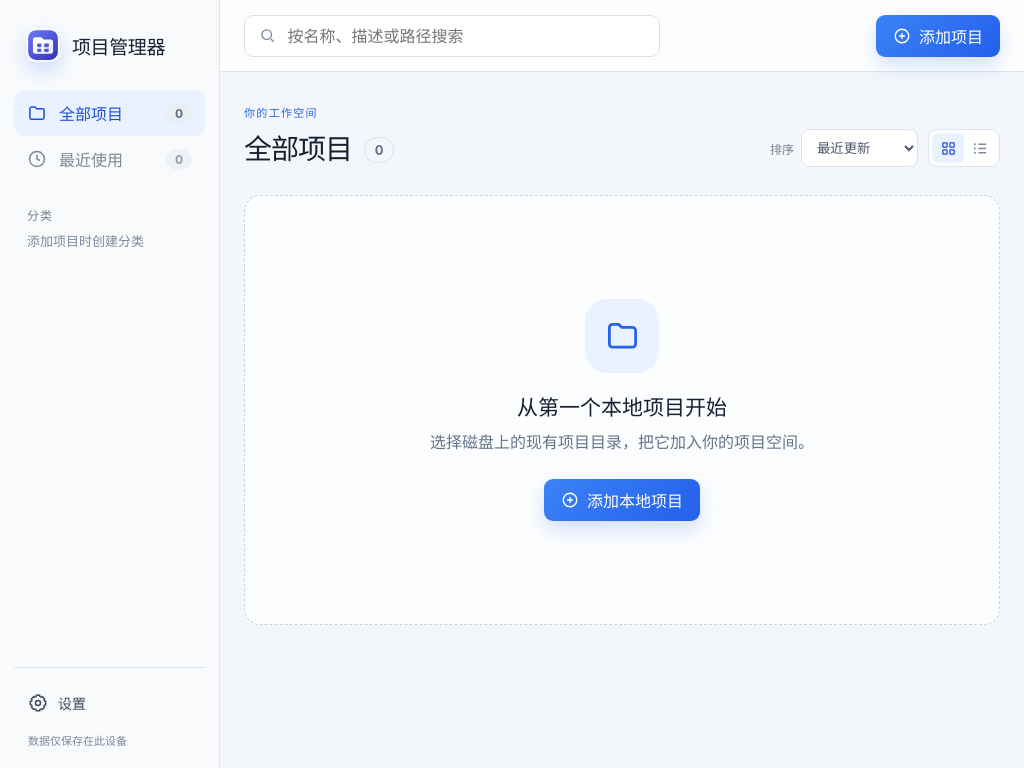
App import flow › loads the empty state and imports an existing directory with a new category
expect the heading "从第一个本地项目开始" is shown: met, box [517, 391, 727, 421]
Click the button "添加本地项目".
click(622, 500)  # box [544, 479, 700, 521]
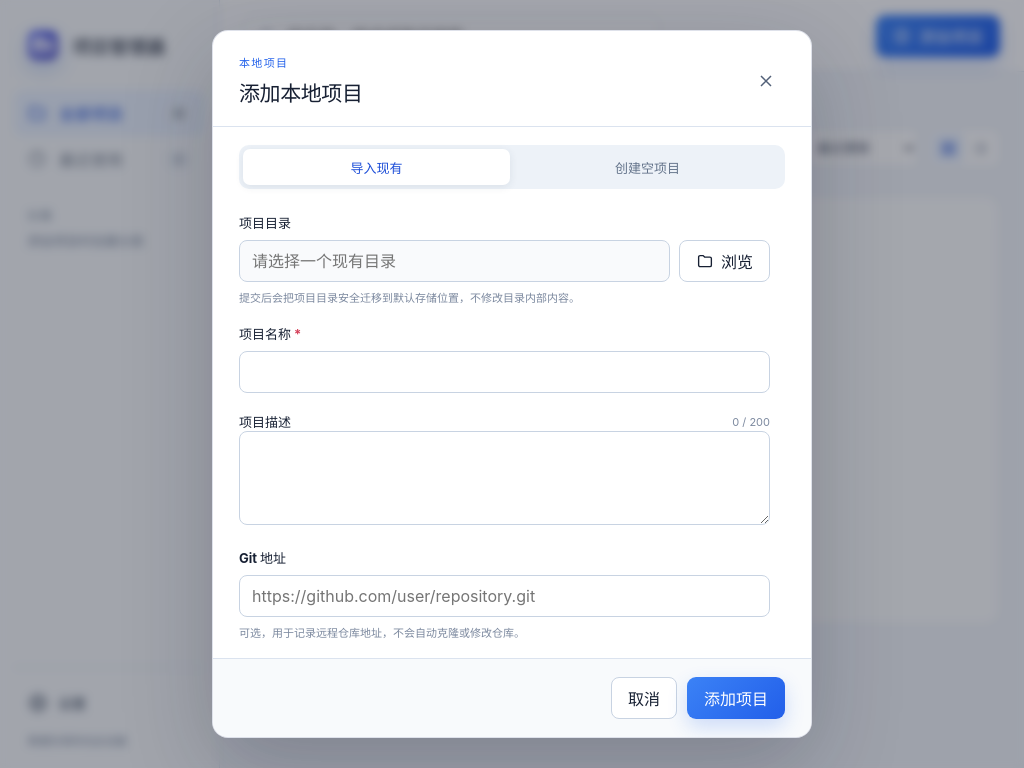
Click the button "浏览".
click(724, 261)  # box [679, 240, 770, 282]
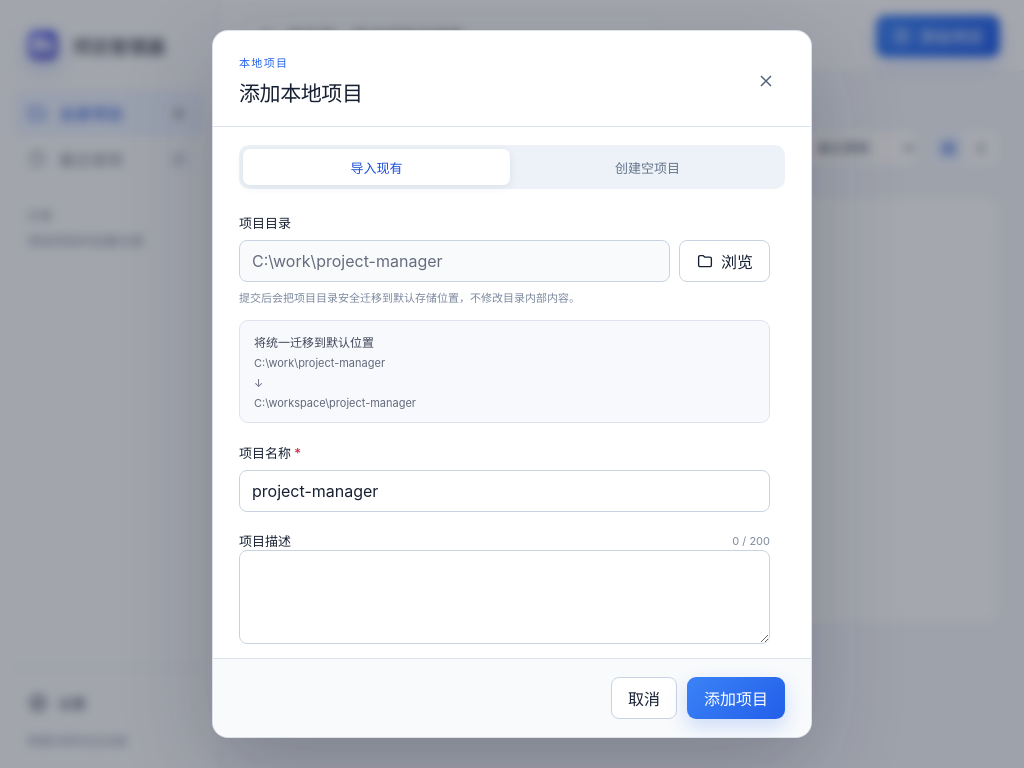
expect the field labelled "项目名称 *" holds "project-manager": met, box [239, 470, 770, 512]
Type "本地项目管理器" into the text box labelled "项目描述".
click(504, 597); type("本地项目管理器")  # box [239, 550, 770, 644]
(page scrolled)
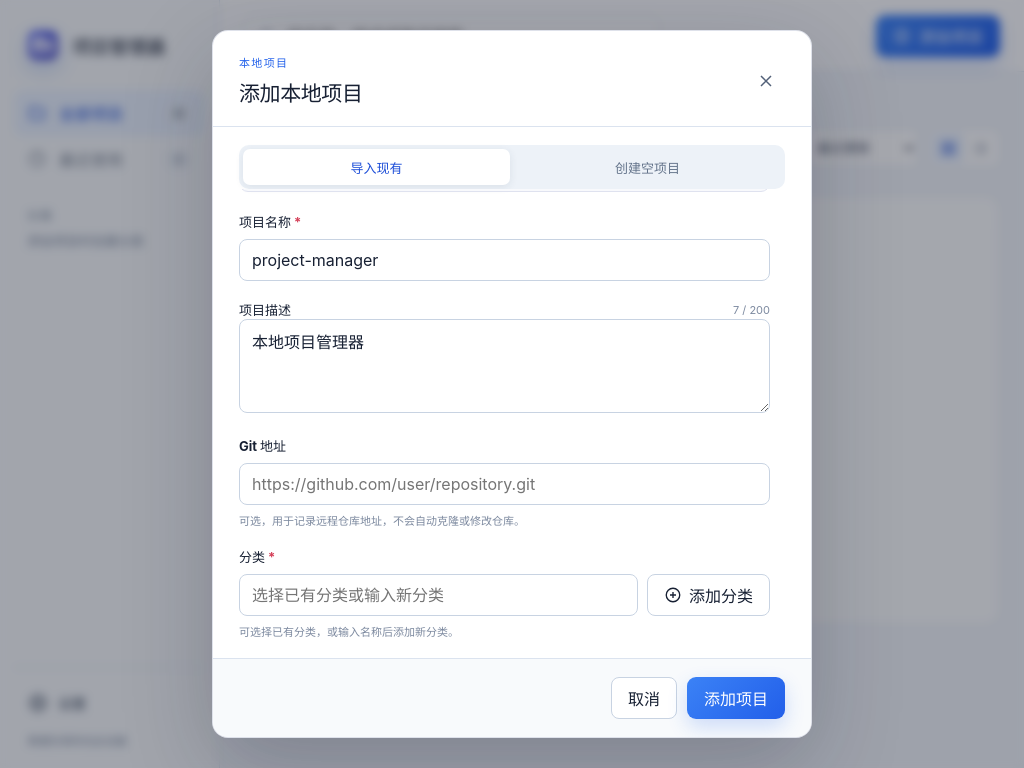
Type "工具" into the field labelled "分类 *".
click(438, 595); type("工具")  # box [239, 574, 638, 616]
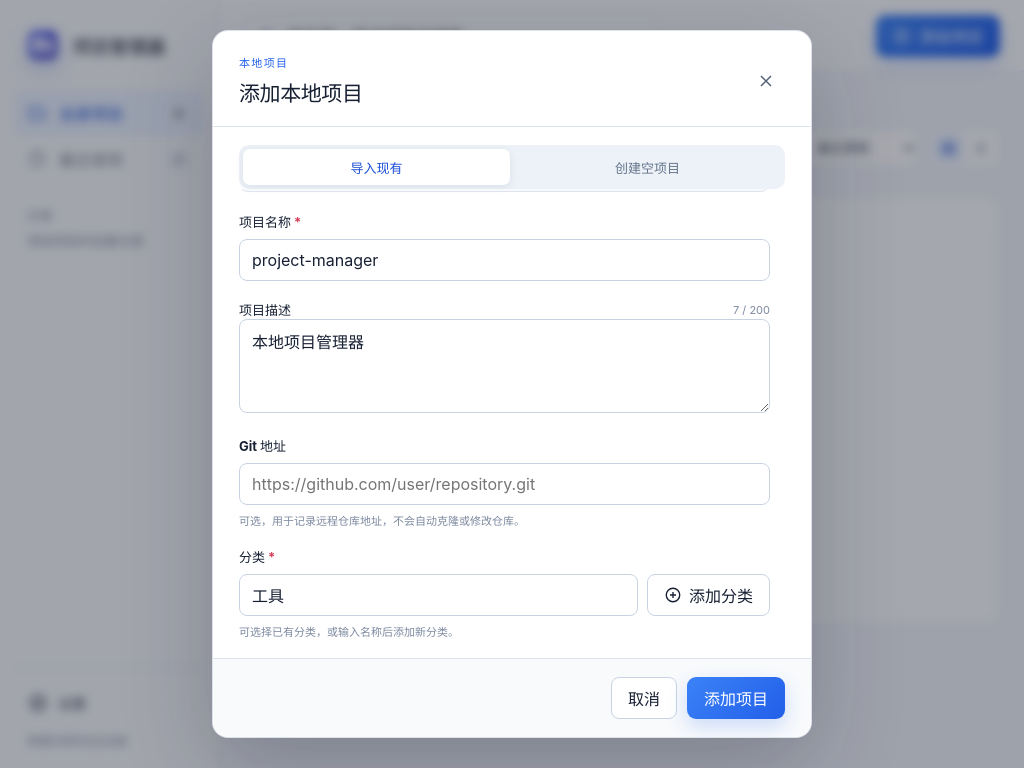
Click the button "添加项目".
click(736, 698)  # box [687, 677, 785, 719]
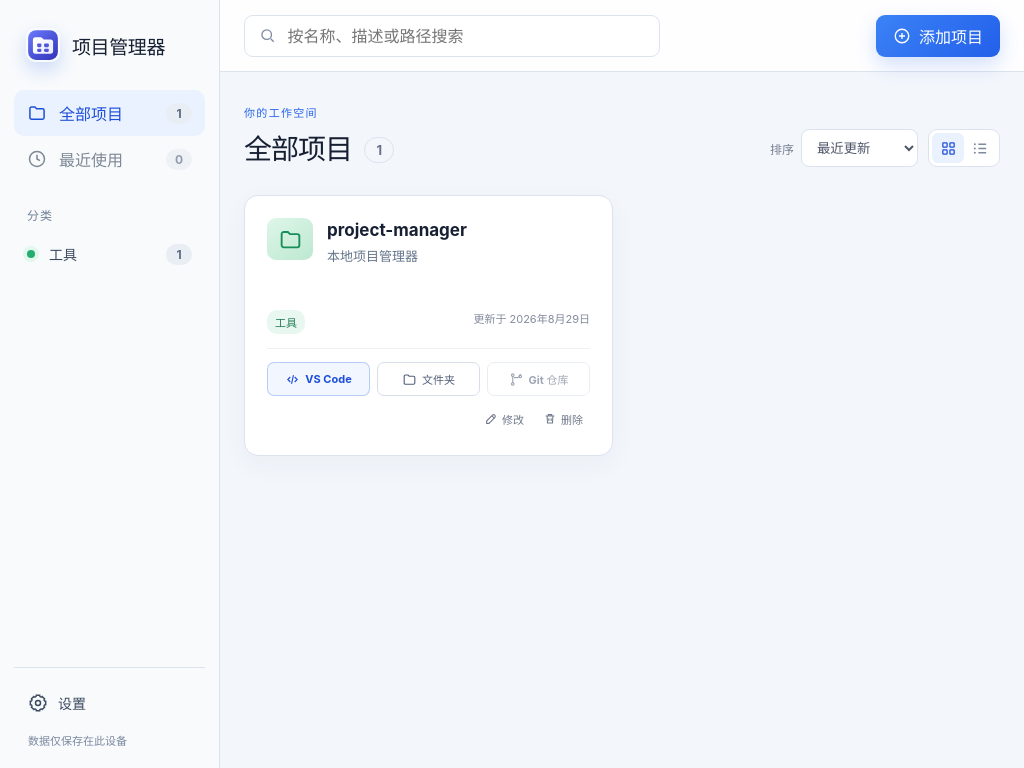
expect the text "工具" is shown 2 times: met, box [49, 246, 77, 263]; [267, 310, 305, 334]
expect the heading "project-manager" is shown: met, box [327, 220, 467, 240]
